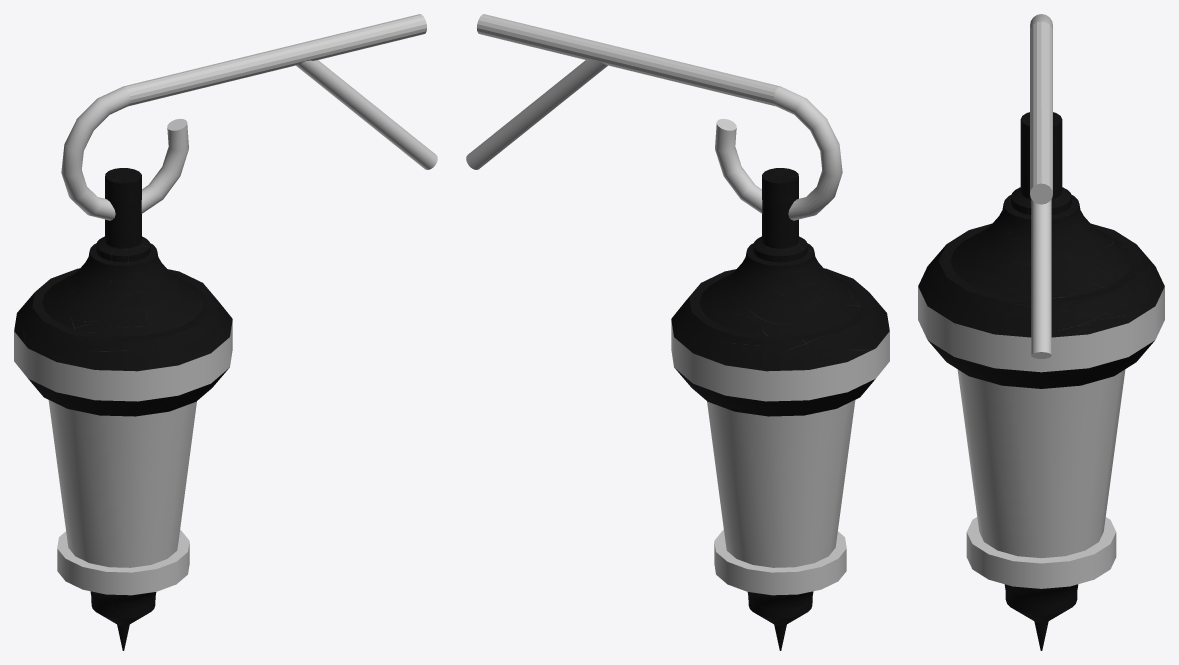
The model's file is Lamp.fbx.
3 renders of one model, left to right at view 1: azimuth 30°, elevation 25°; view 2: azimuth 150°, elevation 25°; view 3: azimuth 270°, elevation 25°, orthographic. The views are drawn at different scales.
Visible parts, largest first — view 1: Cylinder005; view 2: Cylinder005; view 3: Cylinder005.
Boxes of the visible parts, x1,y1,x2,y2 form: Cylinder005: (14, 14, 437, 650); Cylinder005: (466, 14, 889, 650); Cylinder005: (918, 14, 1164, 650).
Size of the model in its own units: 988 by 1302 by 462.
